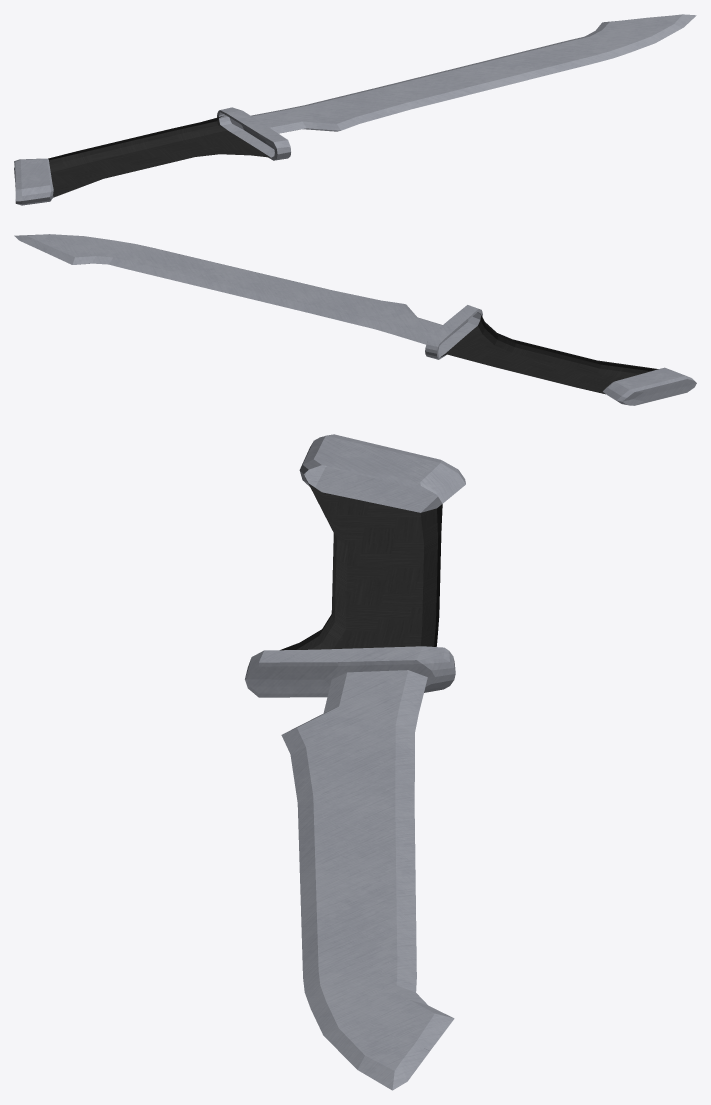
File: blade.glb
3 views of the same model, one above another, from view 1: azimuth 30°, elevation 25°; view 2: azimuth 150°, elevation 25°; view 3: azimuth 270°, elevation 25° (orthographic). The views are drawn at different scales.
Parts seen in each view (by area): view 1: blade; view 2: blade; view 3: blade.
Boxes of the visible parts, x1=… form: blade: x1=14, y1=14, x2=696, y2=205; blade: x1=14, y1=234, x2=696, y2=405; blade: x1=245, y1=434, x2=465, y2=1090.
Size of the model in its own units: 5.63 by 0.1451 by 0.8129.
2 materials, 2 textured.
